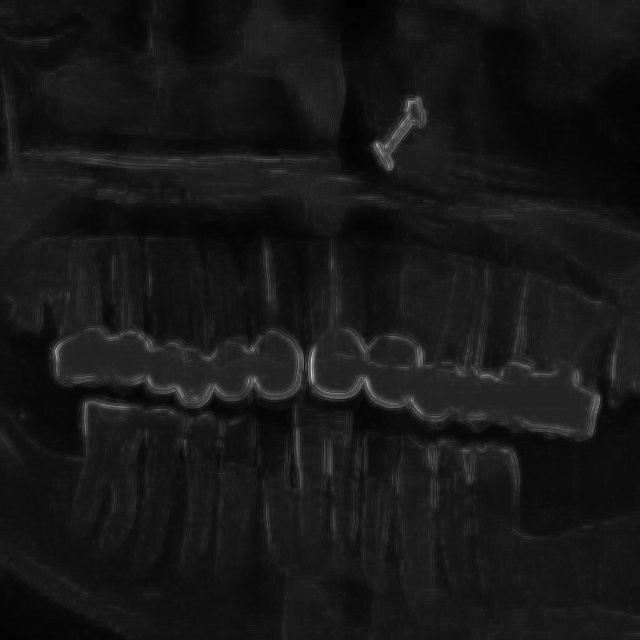Class 0- No endodontic treatment: (240, 218, 376, 414), (418, 233, 503, 441)
Class 1- complete endodontic treatment: (45, 196, 160, 402), (528, 257, 624, 467)
cavity: (290, 421, 528, 623), (71, 394, 272, 602)
